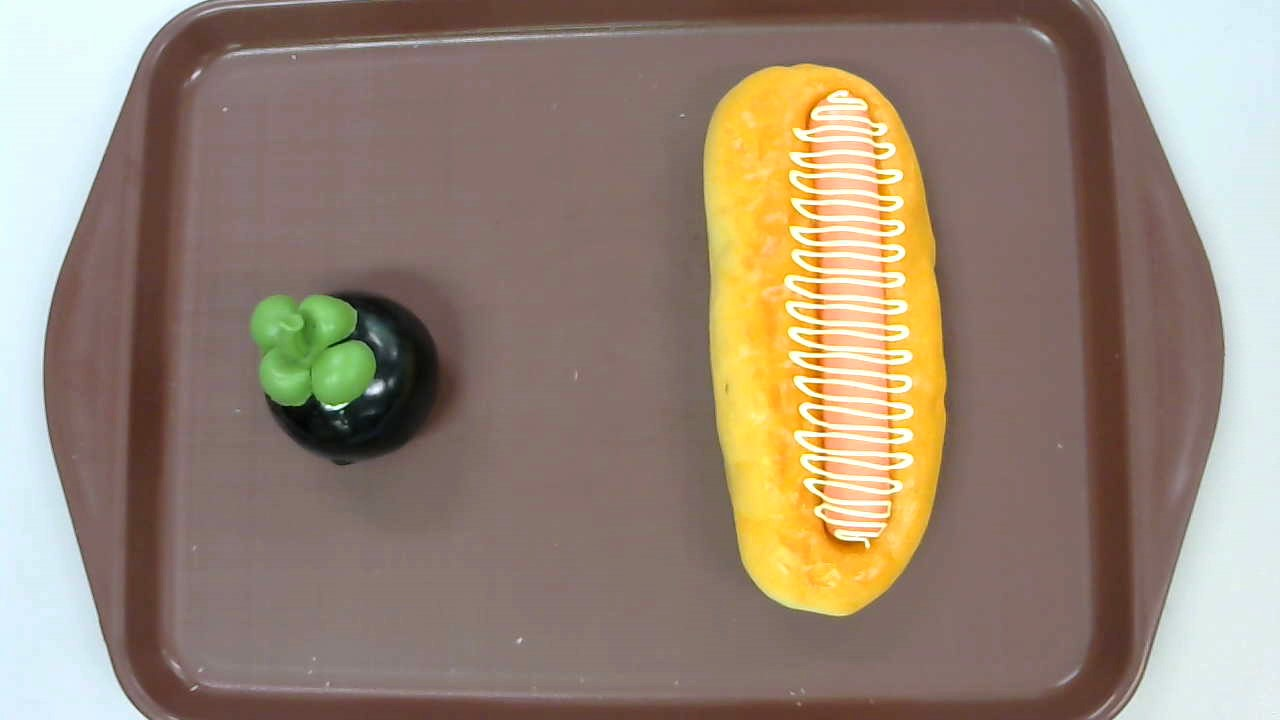hot dog: (701, 62, 948, 617)
mangosteen: (250, 290, 439, 465)
